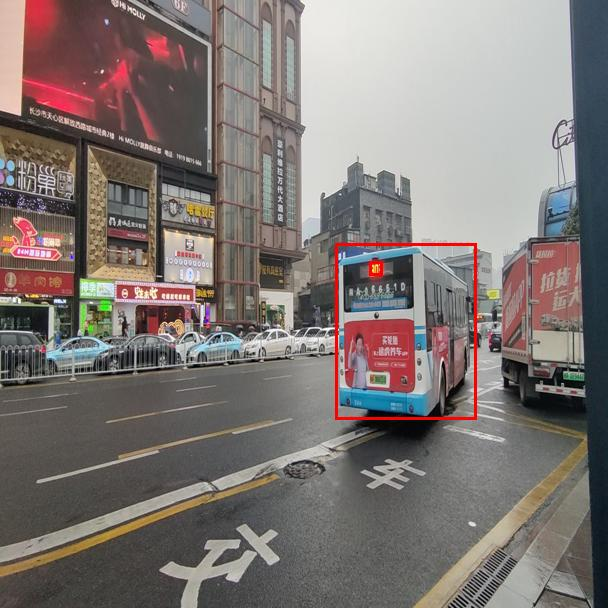bus: (335, 243, 476, 419)
screen: (369, 261, 382, 275)
